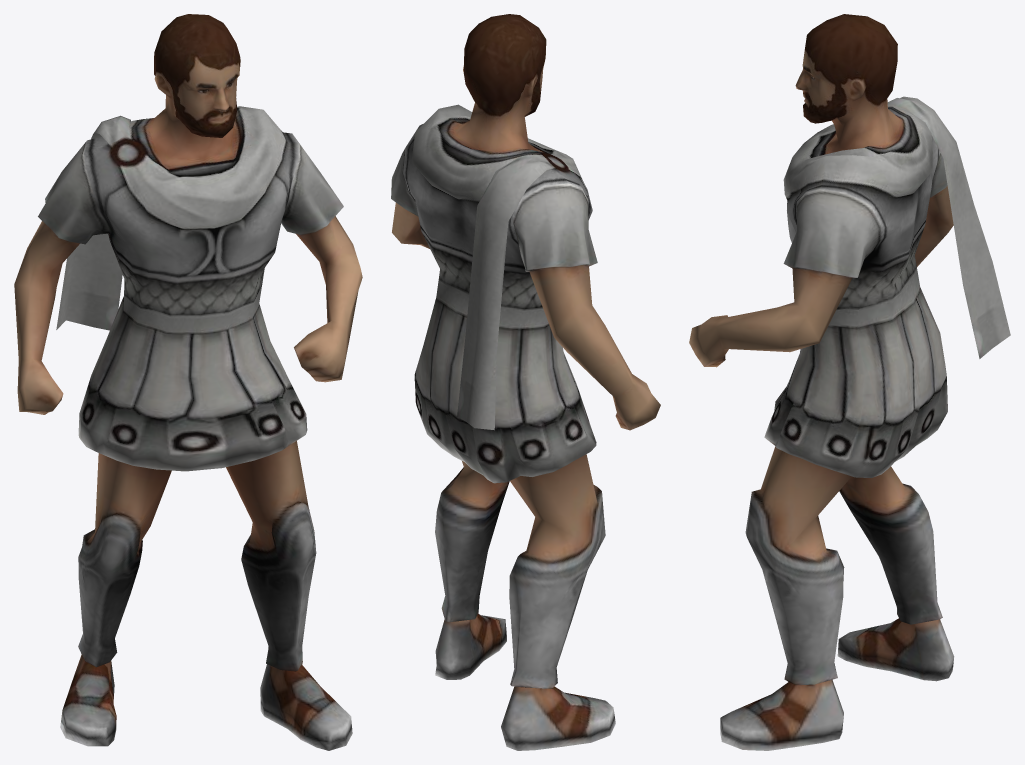
Rendered from body-championinfantry.glb.
The picture shows the model from 3 angles, left to right: view 1: azimuth 30°, elevation 25°; view 2: azimuth 150°, elevation 25°; view 3: azimuth 270°, elevation 25°; orthographic projection. The views are drawn at different scales.
Size of the model in its own units: 0.9083 by 2.02 by 0.8614.
1 material, 1 textured.
